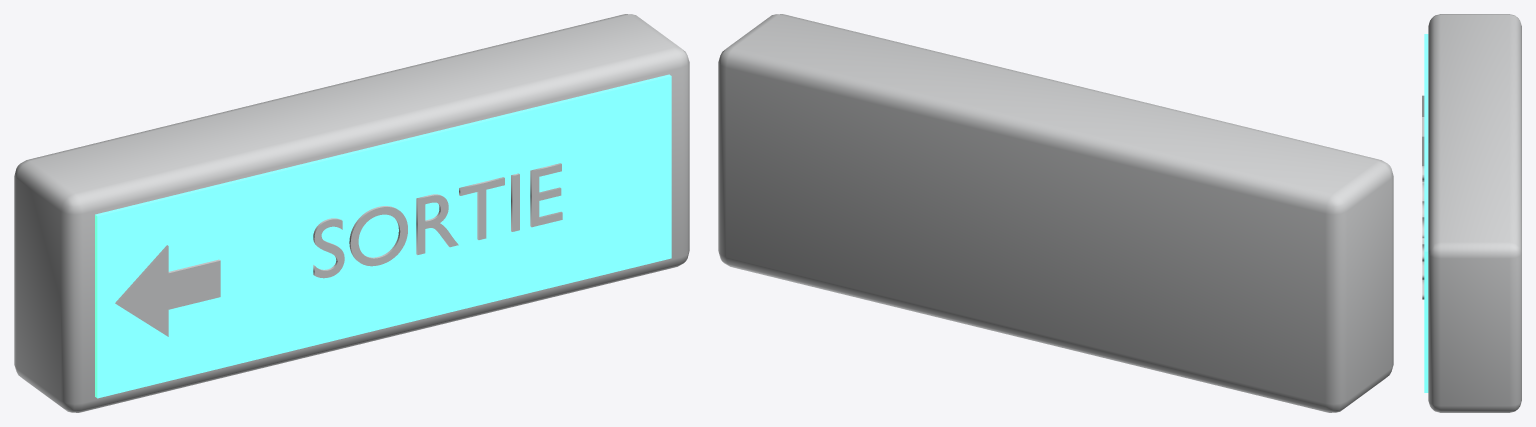
Rendered from panneau_sortie.glb.
3 views of the same model, side by side, from view 1: azimuth 30°, elevation 25°; view 2: azimuth 150°, elevation 25°; view 3: azimuth 270°, elevation 25° (orthographic). The views are drawn at different scales.
Visible parts, largest first — view 1: panneau_sortie; view 2: panneau_sortie; view 3: panneau_sortie.
Boxes of the visible parts, x1,y1,x2,y2 form: panneau_sortie: (14,14,689,412); panneau_sortie: (718,14,1393,412); panneau_sortie: (1422,14,1521,412).
Size of the model in its own units: 0.36 by 0.12 by 0.064.
